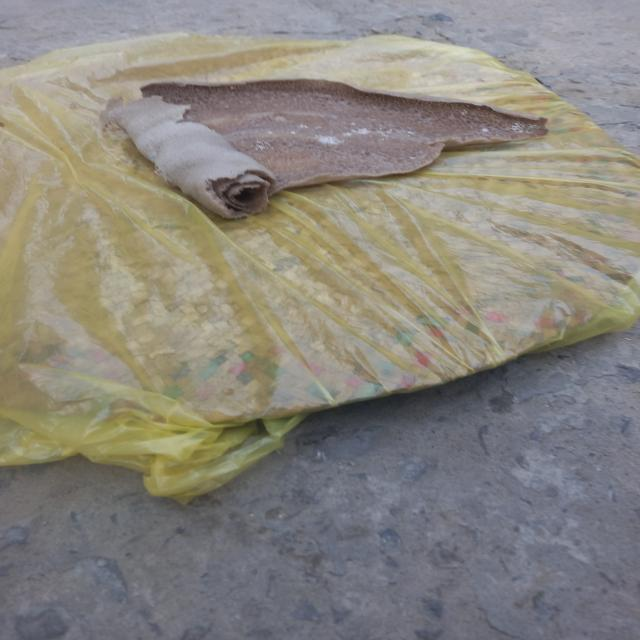injera_mold: (311, 135, 345, 146), (508, 122, 535, 134), (252, 141, 276, 152), (342, 128, 373, 136), (380, 128, 395, 140), (296, 123, 311, 129), (460, 108, 468, 116), (187, 114, 196, 121), (288, 128, 297, 134), (408, 130, 416, 136), (482, 128, 489, 133), (409, 156, 416, 161), (266, 131, 274, 135), (350, 122, 356, 126), (406, 126, 412, 130)
